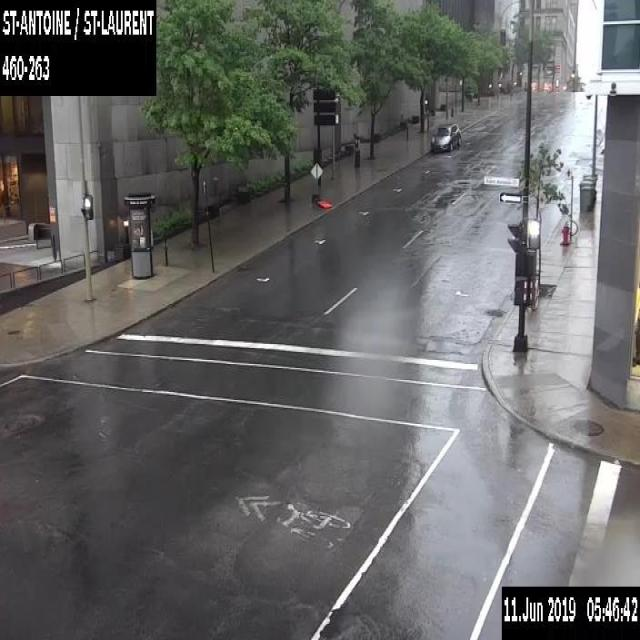construction: (310, 191, 333, 208)
vehicle: (429, 121, 462, 153)
